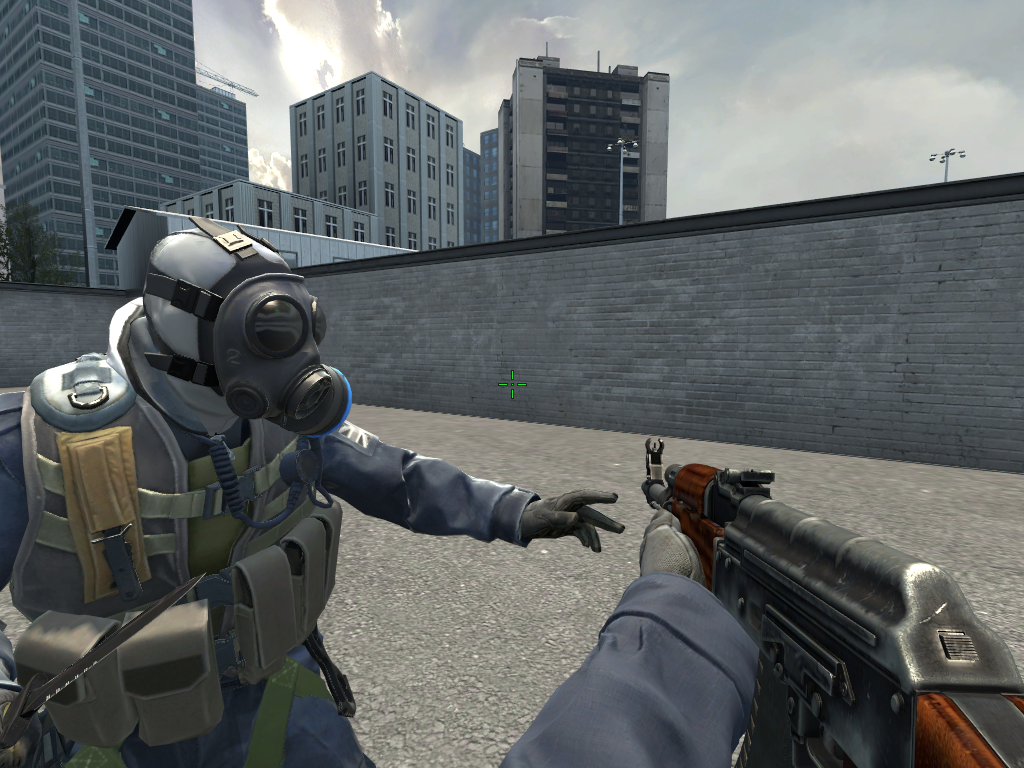ct head: (126, 213, 356, 446)
